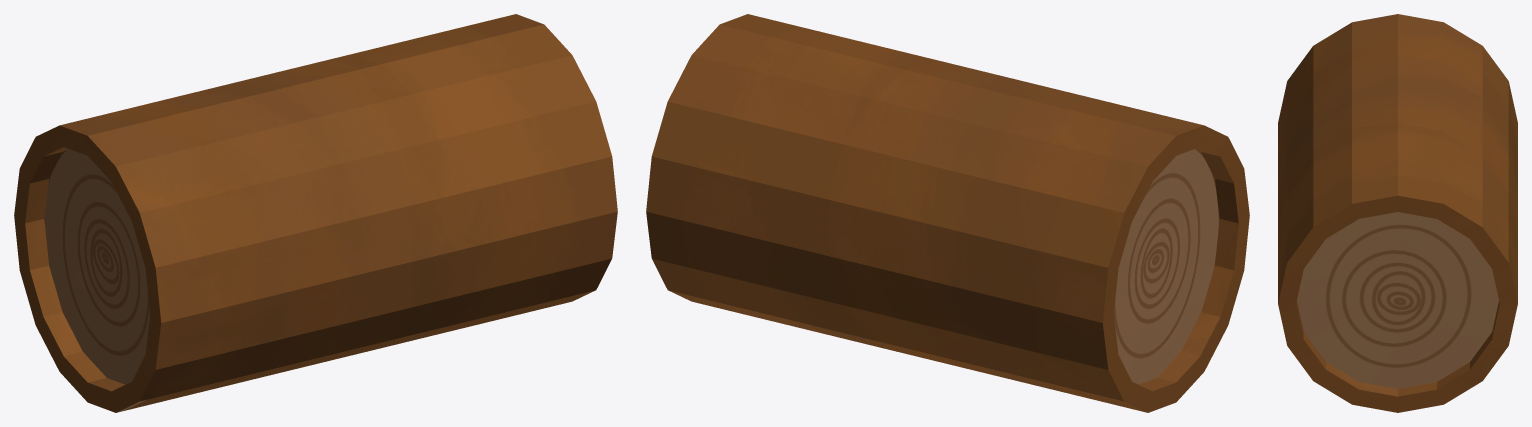
Rendered from logs_basic.fbx.
3 views of the same model, side by side, from view 1: azimuth 30°, elevation 25°; view 2: azimuth 150°, elevation 25°; view 3: azimuth 270°, elevation 25° (orthographic). The views are drawn at different scales.
Parts seen in each view (by area): view 1: Cylinder; view 2: Cylinder; view 3: Cylinder.
Boxes of the visible parts, x1,y1,x2,y2 form: Cylinder: [14, 14, 617, 412]; Cylinder: [646, 14, 1249, 412]; Cylinder: [1278, 14, 1517, 412].
Size of the model in its own units: 288 by 160 by 160.
